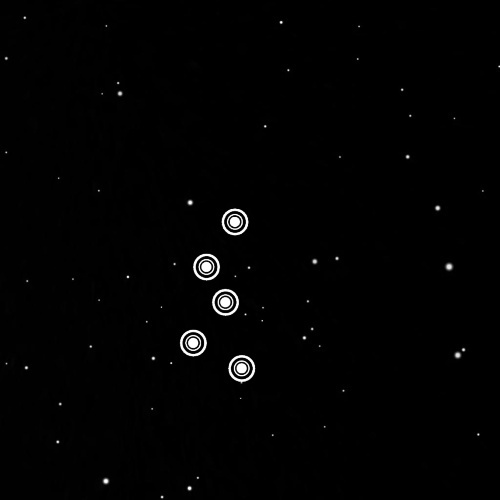cassiopeia: (173, 197, 262, 390)
